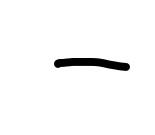minus: (54, 57, 129, 74)
